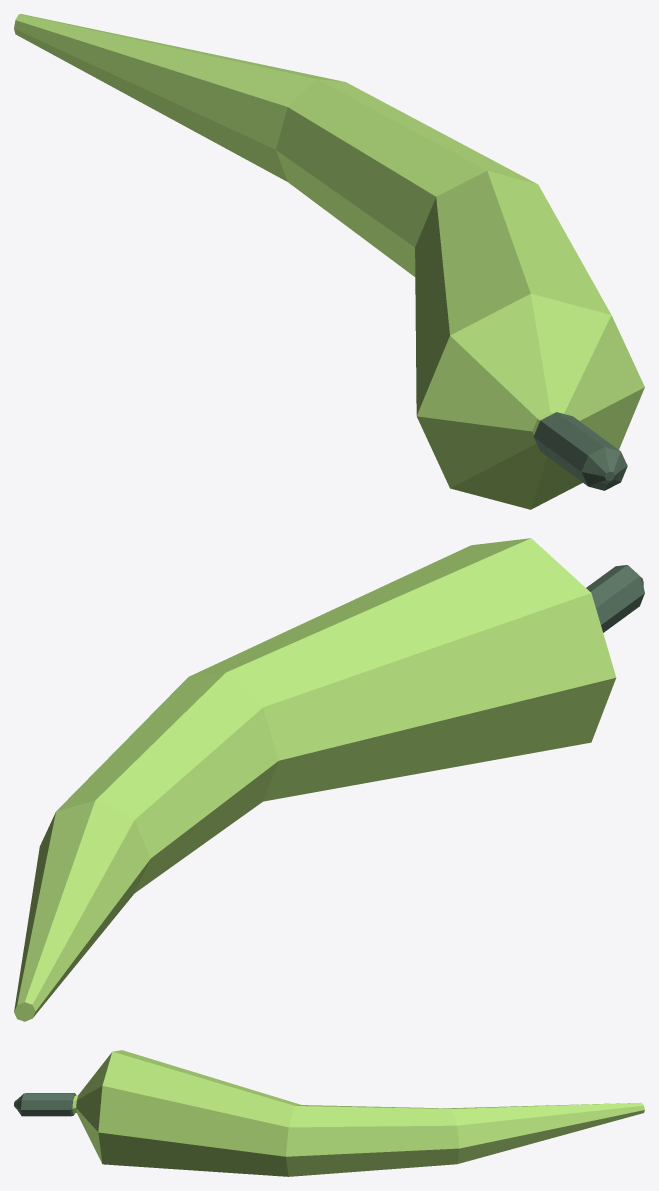
File: fruit05.fbx
3 views of the same model, one above another, from view 1: azimuth 30°, elevation 25°; view 2: azimuth 150°, elevation 25°; view 3: azimuth 270°, elevation 25° (orthographic). The views are drawn at different scales.
Visible parts, largest first — view 1: Cylinder.006; view 2: Cylinder.006; view 3: Cylinder.006.
Boxes of the visible parts, box(x1,y1,x2,y2) form: Cylinder.006: box(14, 14, 644, 509); Cylinder.006: box(14, 538, 644, 1021); Cylinder.006: box(14, 1050, 644, 1176).
Bounding box in the file's own units: 0.0454 × 0.0315 × 0.1619.
